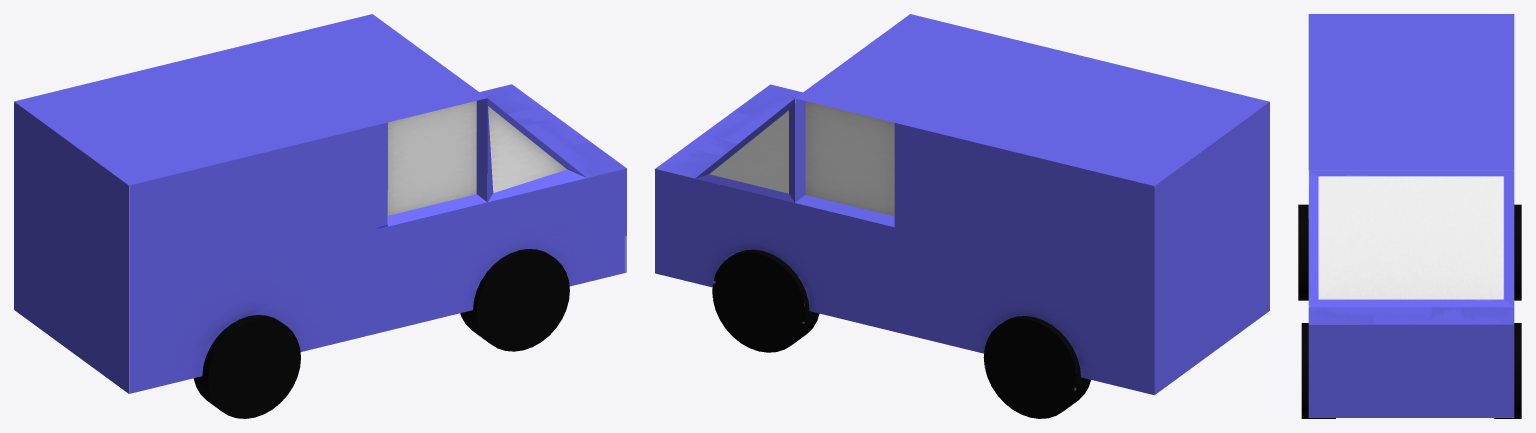
File: lowPolyTruck.glb
3 renders of one model, left to right at view 1: azimuth 30°, elevation 25°; view 2: azimuth 150°, elevation 25°; view 3: azimuth 270°, elevation 25°, orthographic. The views are drawn at different scales.
Visible parts, largest first — view 1: Cube; view 2: Cube; view 3: Cube.
Part boxes in pixels (x1,y1,x2,y2): Cube: (14, 14, 626, 418); Cube: (655, 14, 1269, 418); Cube: (1298, 14, 1521, 418).
Size of the model in its own units: 5 by 2.47 by 2.17.
1 material, 1 textured.
